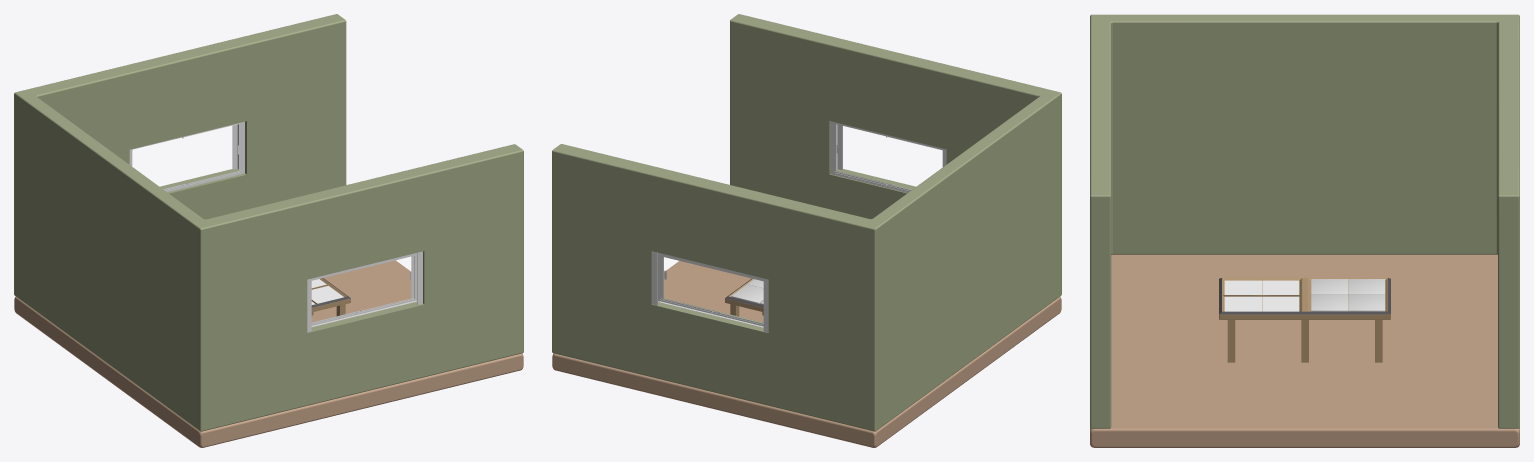
Rendered from Level03-transformed.glb.
3 views of the same model, side by side, from view 1: azimuth 30°, elevation 25°; view 2: azimuth 150°, elevation 25°; view 3: azimuth 270°, elevation 25° (orthographic). The views are drawn at different scales.
Parts seen in each view (by area): view 1: Walls, Ground, TableTop, WindowFrame, WindowFrame.001, Blind_rails.001; view 2: Walls, Ground, WindowFrame.001, WindowFrame, Blind_rails; view 3: Walls, Ground, TableTop, TableLegs.001, PuzzlePiece.001, PuzzlePiece.004, PuzzlePiece.002, PuzzlePiece.003.
Boxes of the visible parts, box(x1,y1,x2,y2) form: Walls: box(14, 14, 523, 431); Ground: box(14, 260, 523, 447); TableTop: box(311, 278, 350, 312); WindowFrame: box(129, 121, 244, 192); WindowFrame.001: box(311, 255, 417, 327); Blind_rails.001: box(307, 251, 422, 331); Walls: box(552, 14, 1061, 431); Ground: box(552, 261, 1061, 447); WindowFrame.001: box(830, 121, 946, 192); WindowFrame: box(658, 255, 763, 327); Blind_rails: box(652, 251, 768, 332); Walls: box(1090, 14, 1519, 428); Ground: box(1090, 254, 1519, 447); TableTop: box(1219, 278, 1390, 319); TableLegs.001: box(1227, 320, 1382, 362); PuzzlePiece.001: box(1311, 295, 1348, 311); PuzzlePiece.004: box(1348, 295, 1385, 311); PuzzlePiece.002: box(1311, 279, 1348, 294); PuzzlePiece.003: box(1348, 279, 1385, 294).
Bounding box in the file's own units: 5 × 3.25 × 5.
